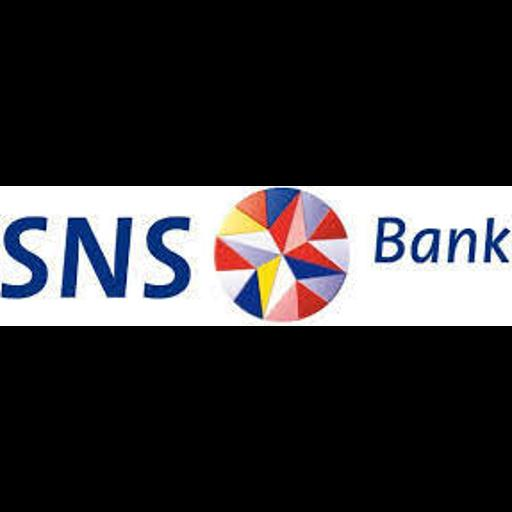SNS Bank N-V: (0, 186, 512, 326)
